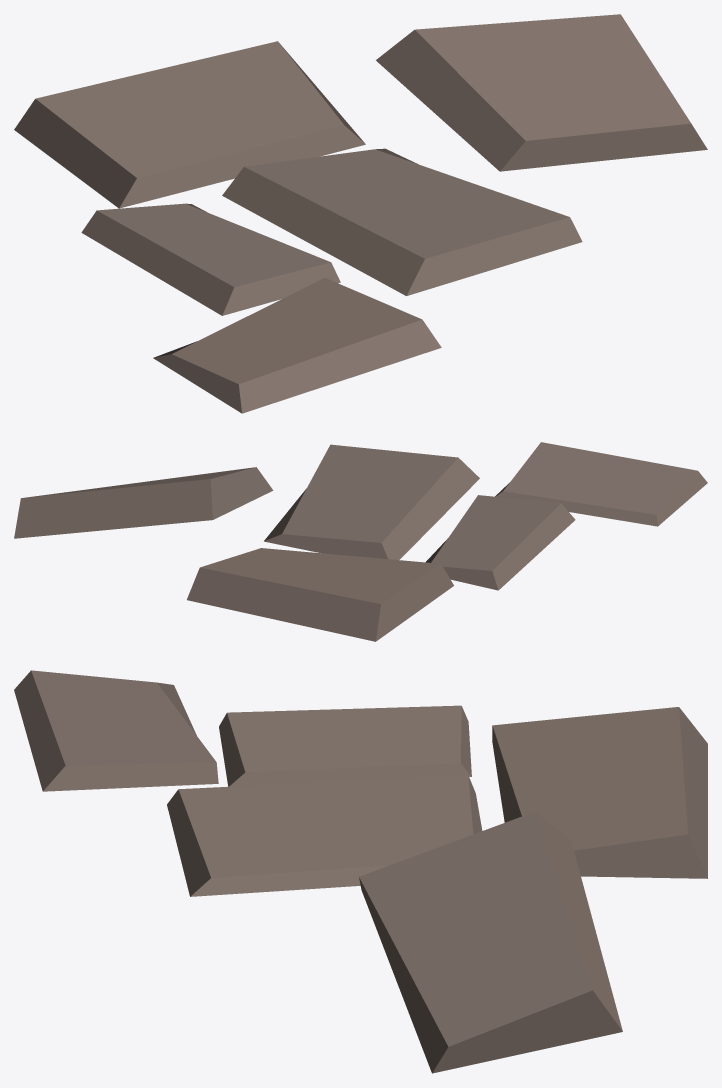
The model's file is M_DalleA.FBX.
3 renders of one model, top to bottom at view 1: azimuth 30°, elevation 25°; view 2: azimuth 150°, elevation 25°; view 3: azimuth 270°, elevation 25°, orthographic. The views are drawn at different scales.
Parts seen in each view (by area): view 1: M_DallesA; view 2: M_DallesA; view 3: M_DallesA.
Boxes of the visible parts, x1=… form: M_DallesA: x1=14, y1=14, x2=707, y2=413; M_DallesA: x1=14, y1=442, x2=707, y2=641; M_DallesA: x1=14, y1=670, x2=707, y2=1073.
Size of the model in its own units: 244 by 48.39 by 213.
